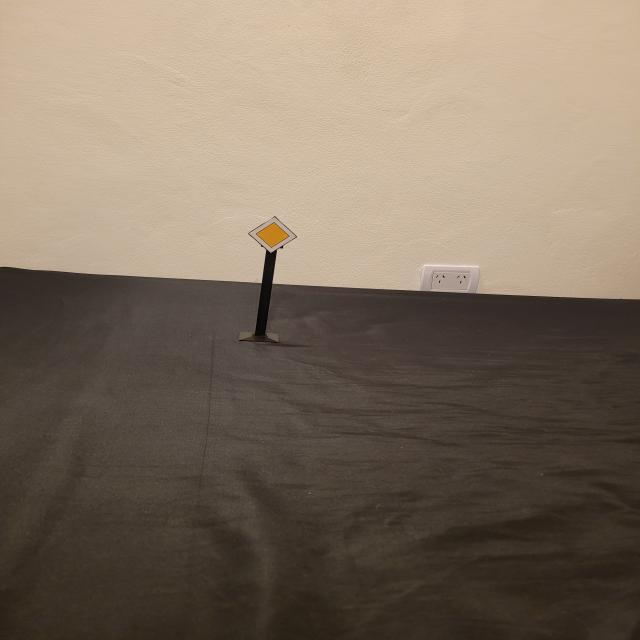priority: (248, 216, 298, 254)
